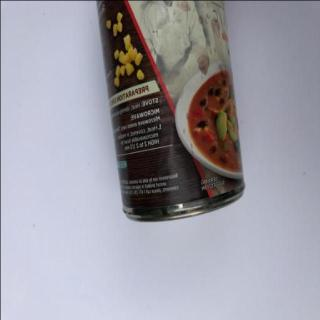Anorganik: (92, 0, 244, 226)
